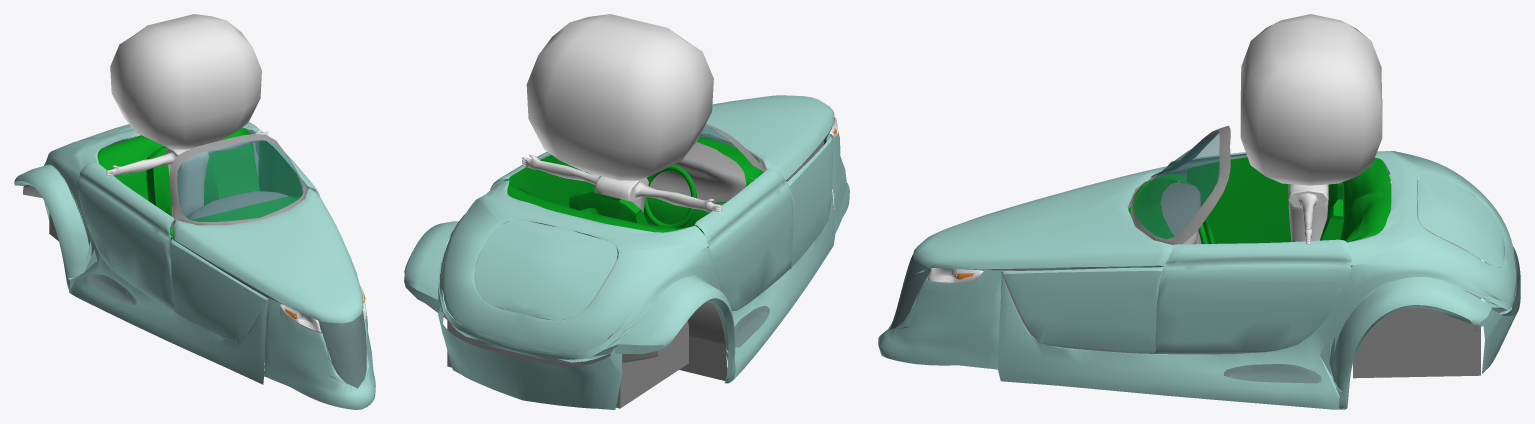
Rendered from aaaaaaa.FBX.
3 views of the same model, side by side, from view 1: azimuth 30°, elevation 25°; view 2: azimuth 150°, elevation 25°; view 3: azimuth 270°, elevation 25° (orthographic). The views are drawn at different scales.
Visible parts, largest first — view 1: Human Form, ?????, ????? ???6, ?????? ??7, ??????, ?????????2, ?????? ??6, ??? ??????, ????? ??0, ??????? ?6, ????? ???., ?????? ??9 (+8 smaller); view 2: Human Form, ?????? ??4, ?????? ??8, ????? ???6, ??????, ?????????1, ?????, ????? ??0, ???????? ?, ?????? ??6, ?????? ??1, ???? ????? (+9 smaller); view 3: Human Form, ??????, ????? ???4, ?????, ?????? ??5, ?????? ??4, ?????????2, ???????? ?, ?????? ?10, ????? ??, ?????? ??7, ?????? ??8 (+10 smaller).
Boxes of the visible parts, box(x1,y1,x2,y2) form: Human Form: box(106, 14, 268, 229); ?????: box(173, 188, 363, 323); ????? ???6: box(77, 162, 174, 312); ?????? ??7: box(172, 140, 302, 221); ??????: box(44, 128, 361, 384); ?????????2: box(264, 298, 375, 409); ?????? ??6: box(170, 238, 267, 344); ??? ??????: box(97, 127, 259, 234); ????? ??0: box(14, 164, 88, 293); ??????? ?6: box(319, 311, 366, 388); ????? ???.: box(169, 134, 307, 225); ?????? ??9: box(258, 140, 301, 197); Human Form: box(522, 14, 721, 213); ?????? ??4: box(442, 180, 708, 353); ?????? ??8: box(474, 220, 617, 320); ????? ???6: box(695, 166, 793, 310); ??????: box(438, 190, 835, 381); ?????????1: box(438, 306, 622, 409); ?????: box(701, 95, 834, 180); ????? ??0: box(610, 276, 735, 383); ???????? ?: box(447, 259, 688, 408); ?????? ??6: box(787, 137, 832, 266); ?????? ??1: box(646, 142, 746, 205); ???? ?????: box(426, 240, 727, 381); Human Form: box(1240, 14, 1382, 244); ??????: box(998, 158, 1516, 409); ????? ???4: box(1155, 239, 1351, 353); ?????: box(913, 166, 1173, 270); ?????? ??5: box(1003, 267, 1162, 352); ?????? ??4: box(1347, 151, 1515, 302); ?????????2: box(878, 267, 1001, 369); ???????? ?: box(1353, 204, 1480, 378); ?????? ?10: box(1186, 157, 1290, 243); ????? ??: box(1333, 277, 1493, 409); ?????? ??7: box(1134, 132, 1219, 239); ?????? ??8: box(1417, 173, 1504, 267).
Bounding box in the file's own units: 26.24 × 28.45 × 51.9.
